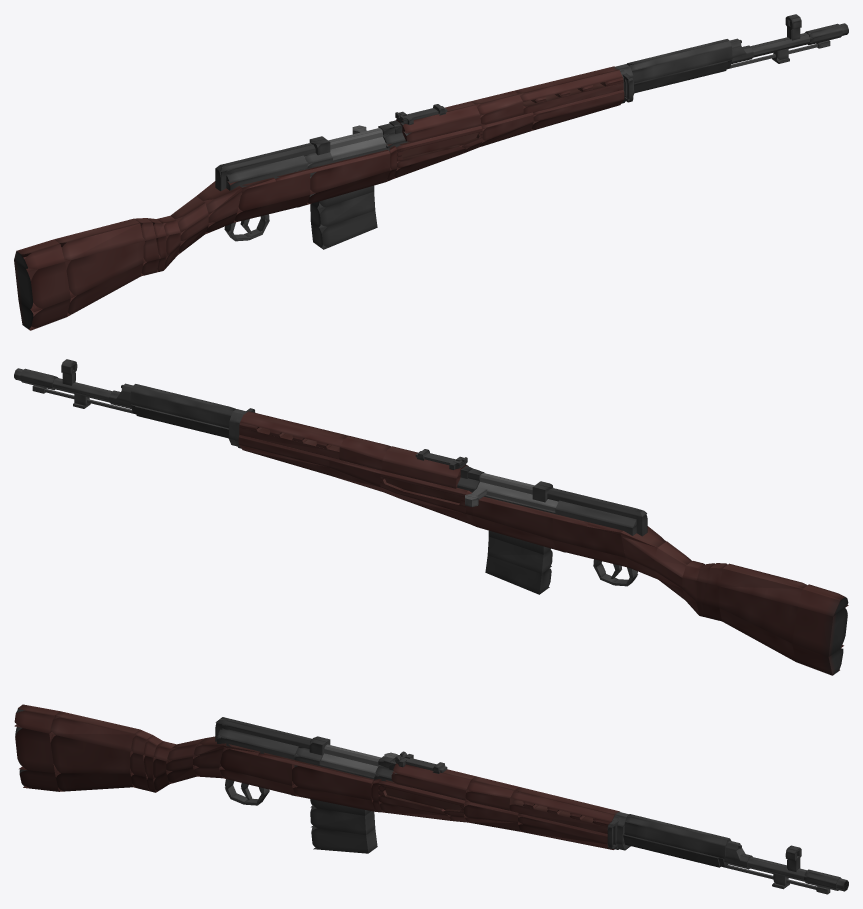
The model's file is svt40.obj.
The picture shows the model from 3 angles, top to bottom: view 1: azimuth 30°, elevation 25°; view 2: azimuth 150°, elevation 25°; view 3: azimuth 330°, elevation 25°; orthographic projection.
Parts seen in each view (by area): view 1: gunModel39, gunModel44, gunModel40, gunModel0, gunModel2, gunModel60, ammoModel2, gunModel81, ammoModel1, gunModel43, gunModel46, gunModel49 (+16 smaller); view 2: gunModel39, gunModel40, gunModel44, gunModel0, gunModel2, gunModel60, ammoModel2, gunModel81, ammoModel1, gunModel43, gunModel46, gunModel49 (+16 smaller); view 3: gunModel39, gunModel40, gunModel0, gunModel2, gunModel44, gunModel60, gunModel81, ammoModel2, ammoModel1, gunModel43, gunModel49, gunModel91 (+27 smaller).
Boxes of the visible parts, x1=… form: gunModel39: x1=61, y1=241, x2=143, y2=298; gunModel44: x1=14, y1=256, x2=70, y2=311; gunModel40: x1=54, y1=218, x2=143, y2=261; gunModel0: x1=237, y1=173, x2=310, y2=212; gunModel2: x1=310, y1=154, x2=390, y2=194; gunModel60: x1=514, y1=66, x2=622, y2=101; ammoModel2: x1=310, y1=210, x2=377, y2=249; gunModel81: x1=630, y1=47, x2=732, y2=83; ammoModel1: x1=310, y1=191, x2=375, y2=228; gunModel43: x1=67, y1=263, x2=143, y2=316; gunModel46: x1=14, y1=239, x2=64, y2=271; gunModel49: x1=396, y1=101, x2=480, y2=133; gunModel39: x1=719, y1=586, x2=797, y2=643; gunModel40: x1=719, y1=563, x2=807, y2=606; gunModel44: x1=792, y1=607, x2=847, y2=656; gunModel0: x1=552, y1=518, x2=625, y2=557; gunModel2: x1=472, y1=500, x2=552, y2=539; gunModel60: x1=240, y1=411, x2=348, y2=446; ammoModel2: x1=485, y1=555, x2=551, y2=594; gunModel81: x1=130, y1=392, x2=230, y2=428; ammoModel1: x1=487, y1=536, x2=552, y2=573; gunModel43: x1=719, y1=608, x2=795, y2=661; gunModel46: x1=798, y1=584, x2=848, y2=616; gunModel49: x1=382, y1=446, x2=468, y2=478; gunModel39: x1=50, y1=734, x2=132, y2=773; gunModel40: x1=49, y1=711, x2=139, y2=752; gunModel0: x1=219, y1=746, x2=294, y2=785; gunModel2: x1=292, y1=766, x2=372, y2=800; gunModel44: x1=15, y1=727, x2=57, y2=773; gunModel60: x1=510, y1=787, x2=619, y2=822; gunModel81: x1=624, y1=821, x2=726, y2=858; ammoModel2: x1=311, y1=826, x2=377, y2=853; ammoModel1: x1=310, y1=806, x2=375, y2=835; gunModel43: x1=56, y1=773, x2=134, y2=791; gunModel49: x1=392, y1=763, x2=475, y2=790; gunModel91: x1=623, y1=834, x2=720, y2=867.
Size of the model in its own units: 36.25 by 5.2 by 2.25.
